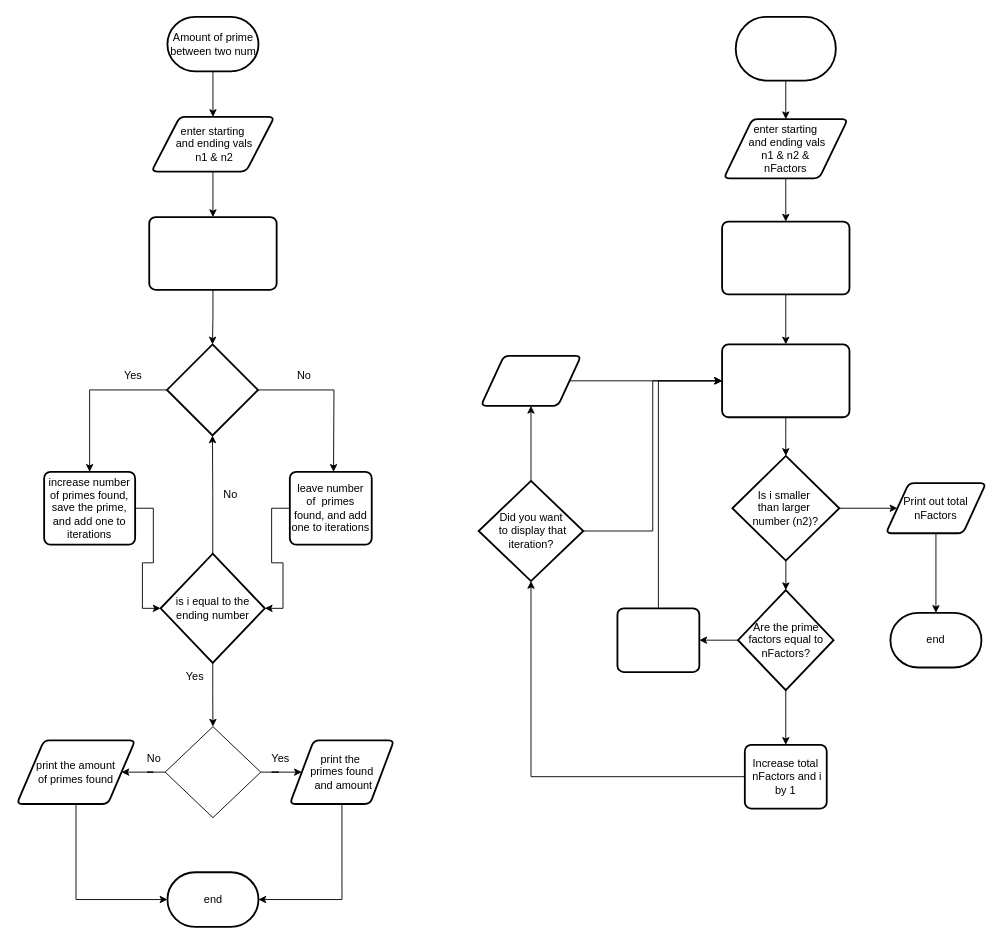
Image size: 1002x943. Some labels were removed from this diagram. The centre of each missing label's shape, as x and y in pixels:
"Amount of prime factors between two num" belongs at [785,48].
"Did you want to display the primes?" belongs at [212,772].
"Find prime factors of i (PrimeCount function)" belongs at [785,380].
"Increase iterations (i) by 1" belongs at [658,639].
"is i prime?" belongs at [212,389].
"Print out i's value" belongs at [530,380].
"start at n1 and set iterations (i) to n1" belongs at [212,253].
"start at smaller num (n1) and set iterations (i) to n1" belongs at [785,257].
